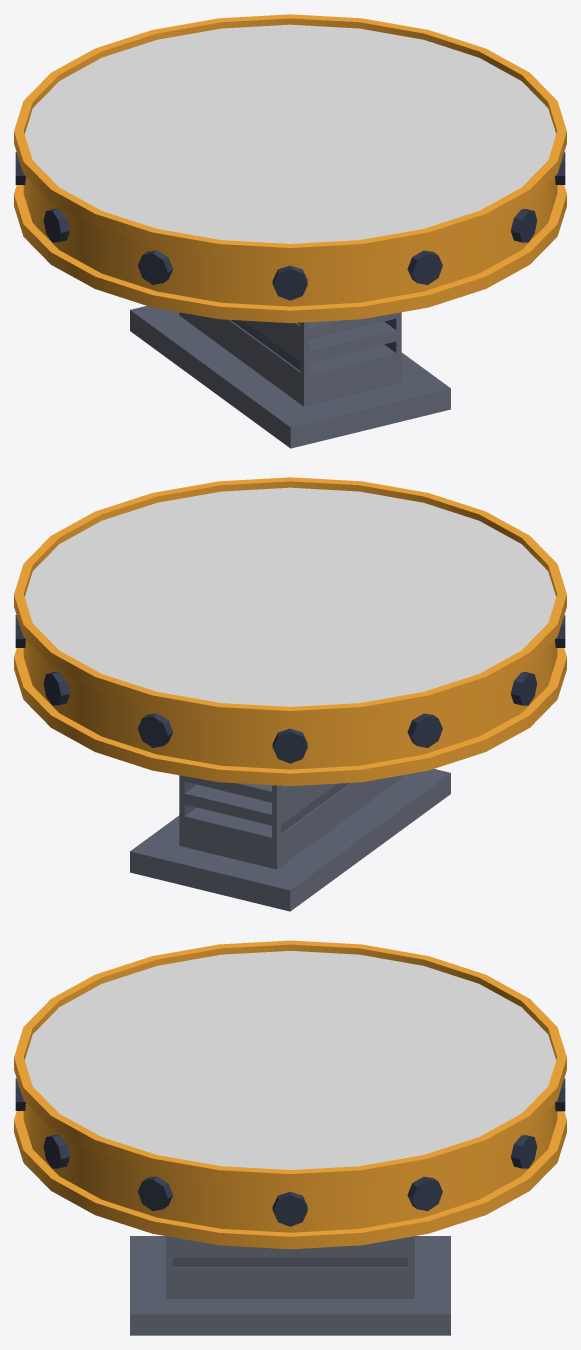
Rendered from Conveyor_main.fbx.
3 renders of one model, top to bottom at view 1: azimuth 30°, elevation 25°; view 2: azimuth 150°, elevation 25°; view 3: azimuth 270°, elevation 25°, orthographic.
Visible parts, largest first — view 1: Conveyor_main; view 2: Conveyor_main; view 3: Conveyor_main.
Boxes of the visible parts, x1,y1,x2,y2 form: Conveyor_main: (14,14,566,448); Conveyor_main: (14,477,566,911); Conveyor_main: (14,940,566,1335).
Bounding box in the file's own units: 240 × 114 × 240.
